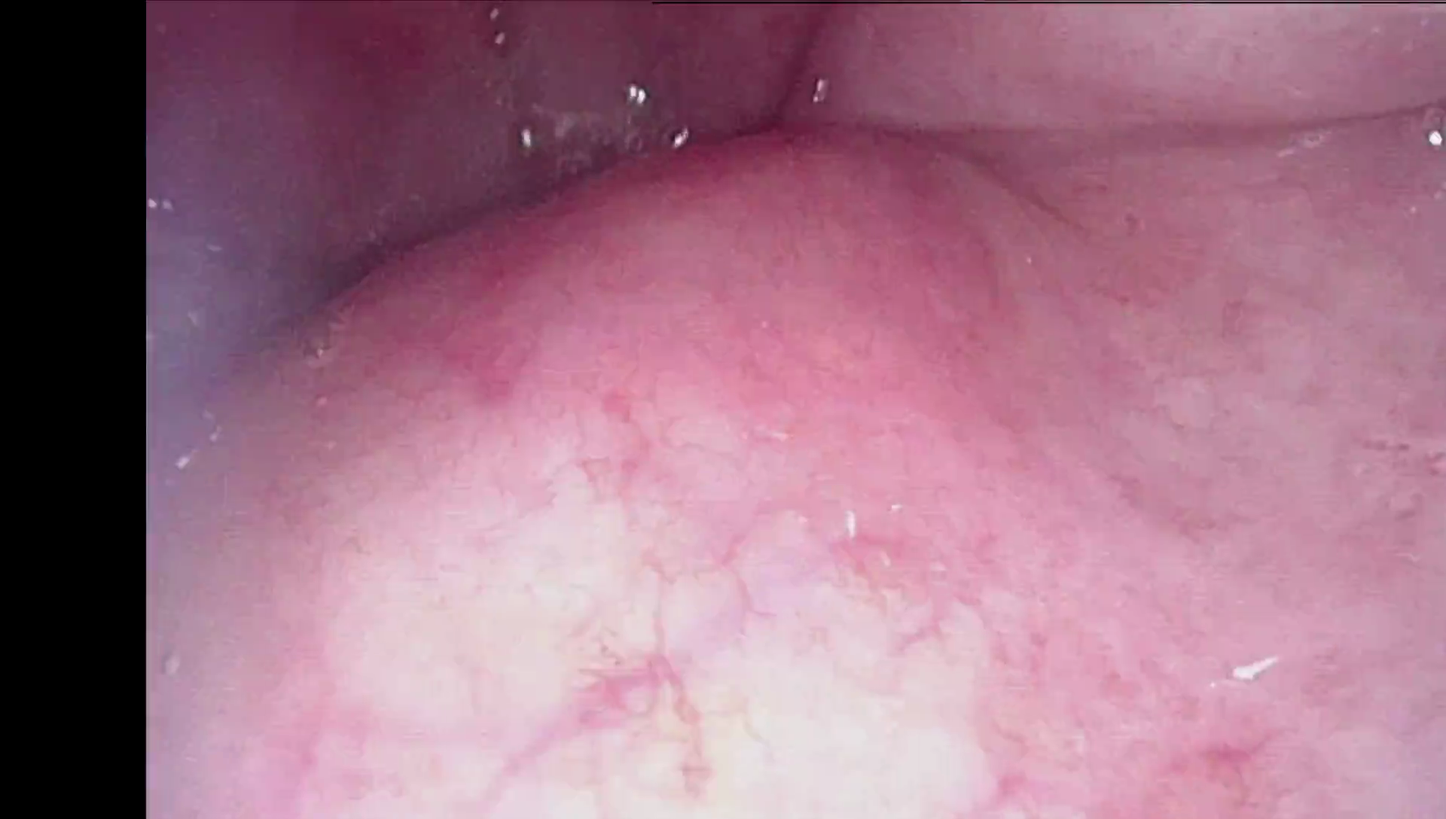close_wall: (259, 343, 1180, 819)
